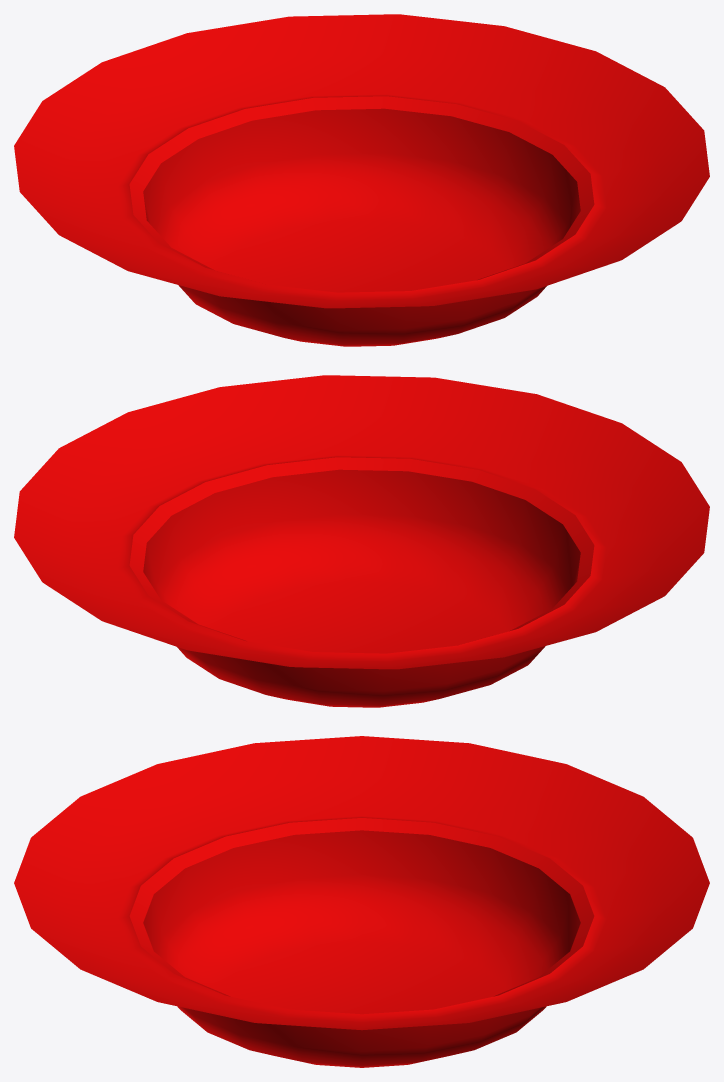
Rendered from Shower_light_1.fbx.
The picture shows the model from 3 angles, top to bottom: view 1: azimuth 30°, elevation 25°; view 2: azimuth 150°, elevation 25°; view 3: azimuth 270°, elevation 25°; orthographic projection.
Parts seen in each view (by area): view 1: Shower_light_1; view 2: Shower_light_1; view 3: Shower_light_1.
Part boxes in pixels (<box>): Shower_light_1: <box>14,14,709,346</box>; Shower_light_1: <box>14,375,709,707</box>; Shower_light_1: <box>14,736,709,1067</box>.
Size of the model in its own units: 30.74 by 5.94 by 30.74.
